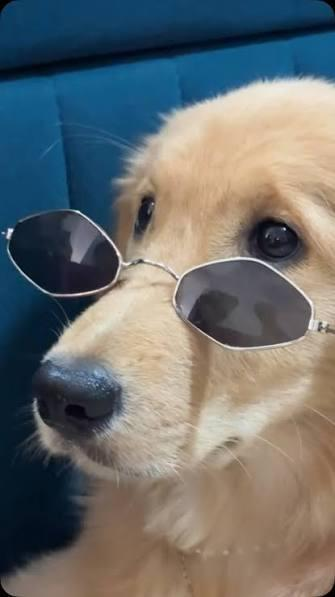adult_dog: (0, 73, 335, 591)
